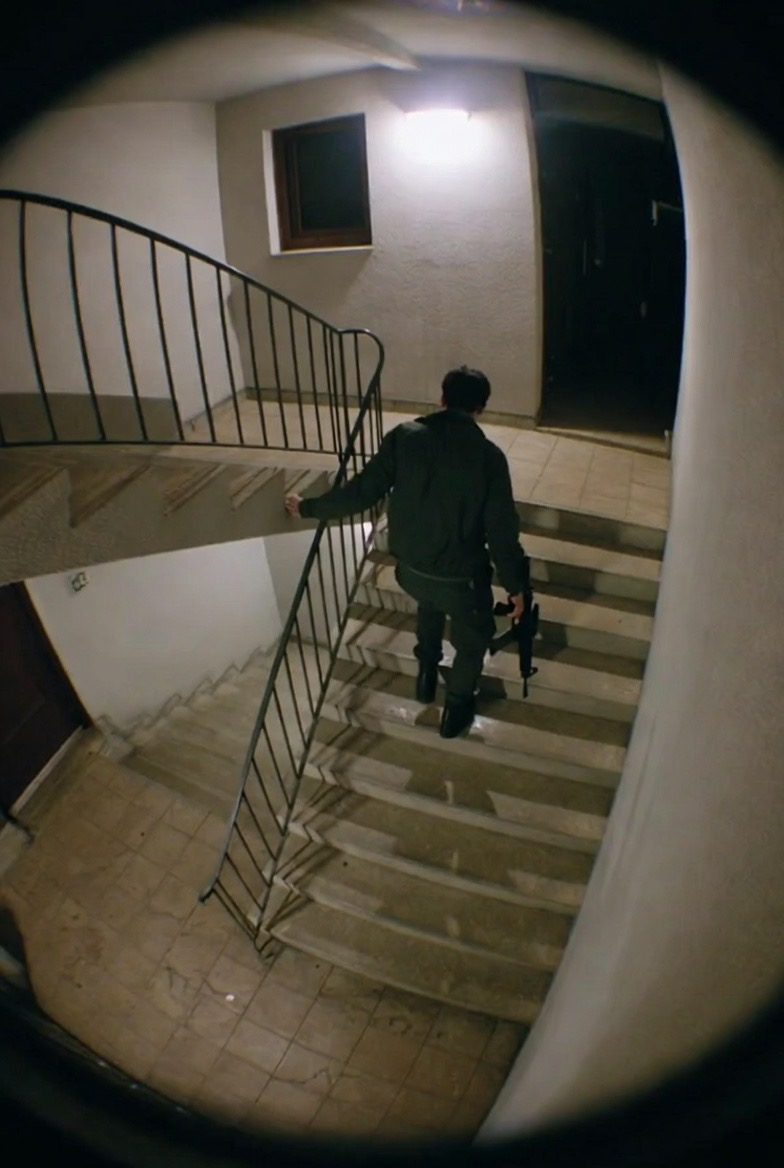person: (283, 364, 536, 741)
weapon: (499, 569, 547, 705)
